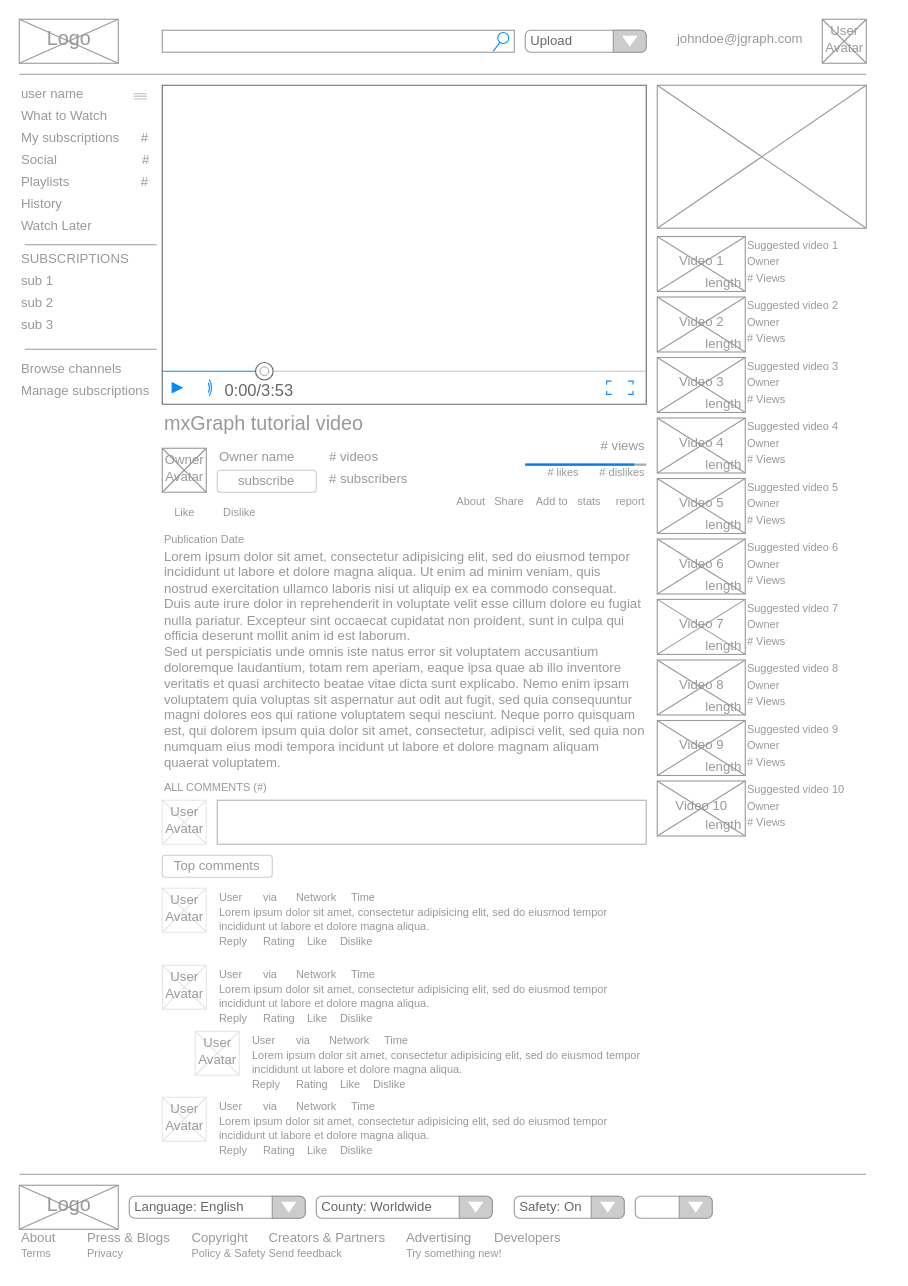
Image size: 908x1286. Some labels were removed from this diagram. The shapes that lost their labels are listed below. From the top down, each one's centre as x and y in pixels, then its label:
point 337,40: Search
point 761,156: Ad Space
point 673,1206: Help
